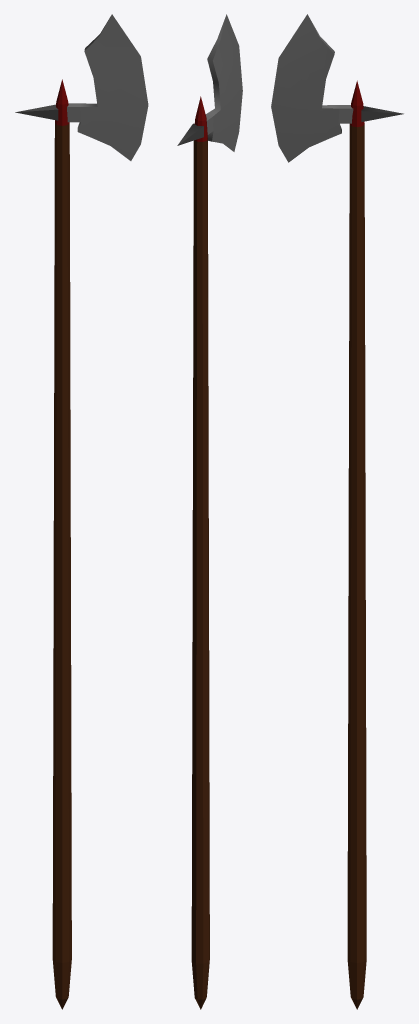
File: halberd.obj
3 views of the same model, side by side, from view 1: azimuth 90°, elevation 25°; view 2: azimuth 150°, elevation 25°; view 3: azimuth 270°, elevation 25° (orthographic).
Parts seen in each view (by area): view 1: Spear_Cube, Cleaver_Cube.001; view 2: Spear_Cube, Cleaver_Cube.001; view 3: Spear_Cube, Cleaver_Cube.001.
Part boxes in pixels (bbox=[...]): Spear_Cube: bbox=[15, 79, 71, 1009]; Cleaver_Cube.001: bbox=[67, 14, 148, 160]; Spear_Cube: bbox=[177, 96, 209, 1009]; Cleaver_Cube.001: bbox=[205, 14, 242, 151]; Spear_Cube: bbox=[347, 80, 403, 1009]; Cleaver_Cube.001: bbox=[271, 14, 353, 162].
Size of the model in its own units: 0.0553 by 3.16 by 0.3854.
